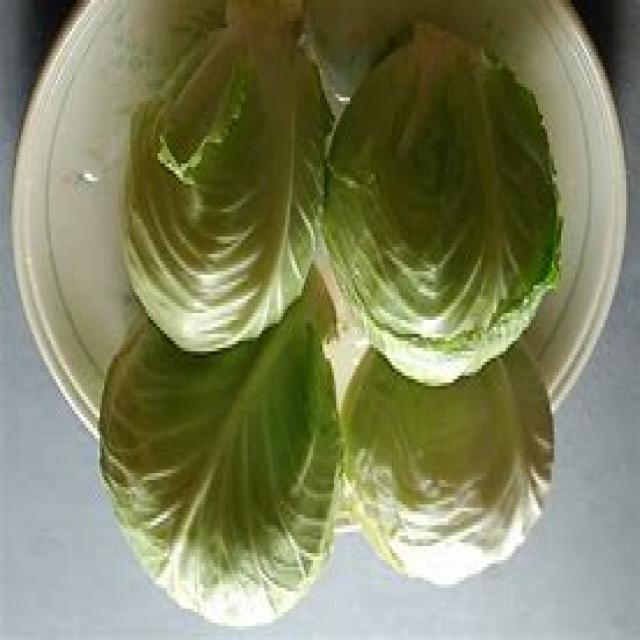cabbage: (332, 27, 562, 377), (101, 324, 344, 626), (123, 13, 328, 349), (337, 351, 563, 592)
